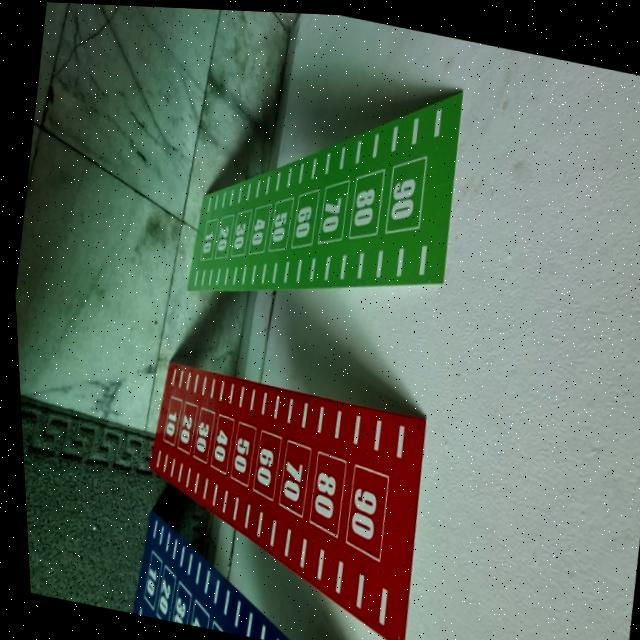water-meter: (152, 14, 492, 366), (105, 332, 449, 640)
